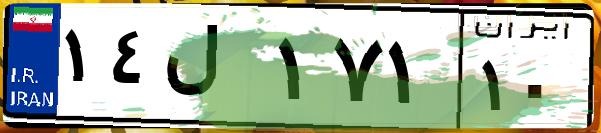0: (525, 38, 570, 115)
1: (270, 28, 330, 110), (385, 28, 445, 110), (57, 26, 110, 100), (475, 38, 525, 113)
4: (110, 28, 158, 98)
7: (330, 28, 385, 110)
ل: (158, 20, 270, 120)
